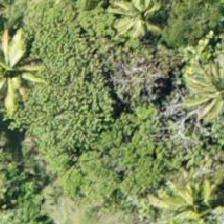coconut_tree: (91, 0, 181, 65), (0, 22, 51, 112)
